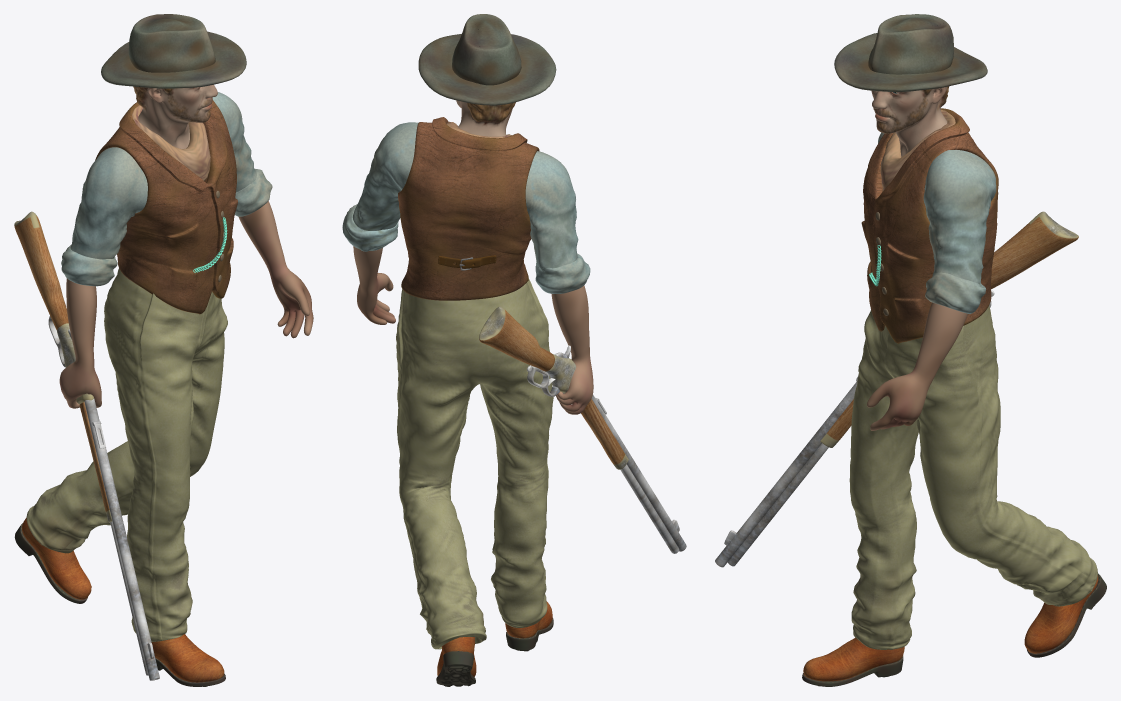
The model's file is Cowboy 46.fbx.
3 views of the same model, side by side, from view 1: azimuth 30°, elevation 25°; view 2: azimuth 150°, elevation 25°; view 3: azimuth 270°, elevation 25° (orthographic). The views are drawn at different scales.
Parts seen in each view (by area): view 1: Trousers, Waistcoat_05_01, Shirt_1, Stetsen_02_01, Winchester_22, Cowboy_53, Boot_03_01, New_head, Tie; view 2: Trousers, Waistcoat_05_01, Shirt_1, Stetsen_02_01, Winchester_22, Cowboy_53, Boot_03_01, New_head; view 3: Trousers, Waistcoat_05_01, Shirt_1, Stetsen_02_01, Winchester_22, Boot_03_01, Cowboy_53, New_head, Tie.
Boxes of the visible parts, left/top/right/bottom form: Trousers: left=26, top=268, right=227, bottom=641; Waistcoat_05_01: left=95, top=100, right=237, bottom=314; Shirt_1: left=61, top=92, right=272, bottom=286; Stetsen_02_01: left=101, top=14, right=246, bottom=88; Winchester_22: left=14, top=211, right=159, bottom=680; Cowboy_53: left=59, top=201, right=313, bottom=408; Boot_03_01: left=14, top=517, right=225, bottom=686; New_head: left=133, top=84, right=217, bottom=148; Tie: left=132, top=105, right=210, bottom=180; Trousers: left=396, top=278, right=553, bottom=649; Waistcoat_05_01: left=398, top=117, right=539, bottom=300; Shirt_1: left=342, top=122, right=590, bottom=293; Stetsen_02_01: left=418, top=14, right=556, bottom=105; Winchester_22: left=479, top=306, right=686, bottom=553; Cowboy_53: left=353, top=246, right=593, bottom=414; Boot_03_01: left=436, top=601, right=553, bottom=686; New_head: left=456, top=100, right=515, bottom=136; Trousers: left=849, top=305, right=1097, bottom=649; Waistcoat_05_01: left=861, top=108, right=998, bottom=343; Shirt_1: left=878, top=132, right=996, bottom=313; Stetsen_02_01: left=834, top=14, right=987, bottom=91; Winchester_22: left=715, top=211, right=1078, bottom=567; Boot_03_01: left=802, top=573, right=1106, bottom=686; Cowboy_53: left=867, top=302, right=967, bottom=430; New_head: left=871, top=86, right=949, bottom=157; Tie: left=880, top=109, right=955, bottom=190.
Size of the model in its own units: 75.91 by 187 by 99.8.
Materials: 14 (13 with a texture image).
